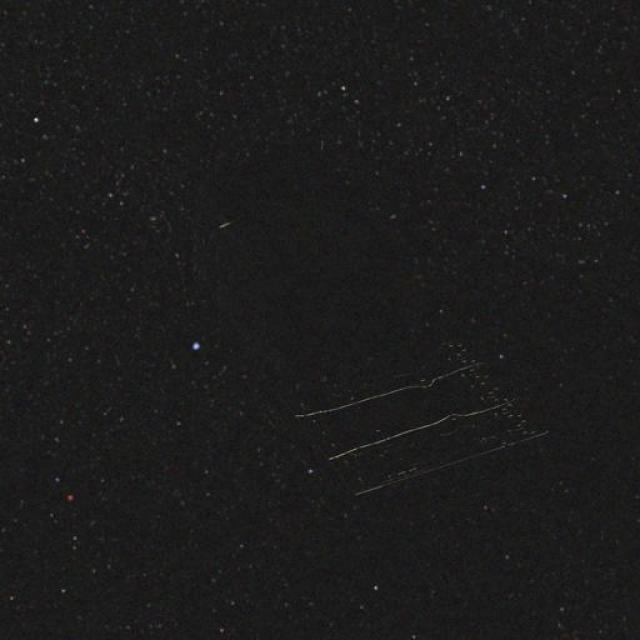proba_3_csc: (173, 156, 575, 530)
